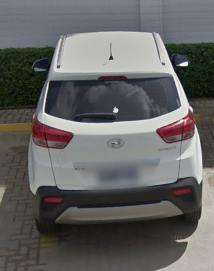car: (30, 27, 202, 229)
